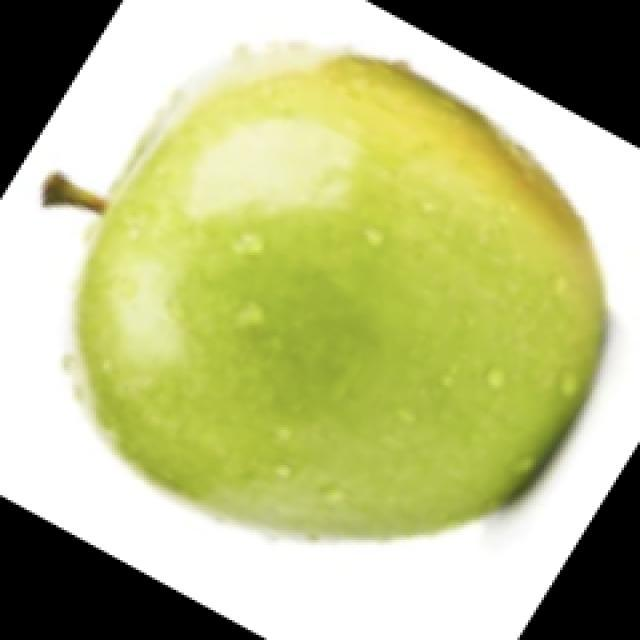Apple: (41, 38, 608, 542)
